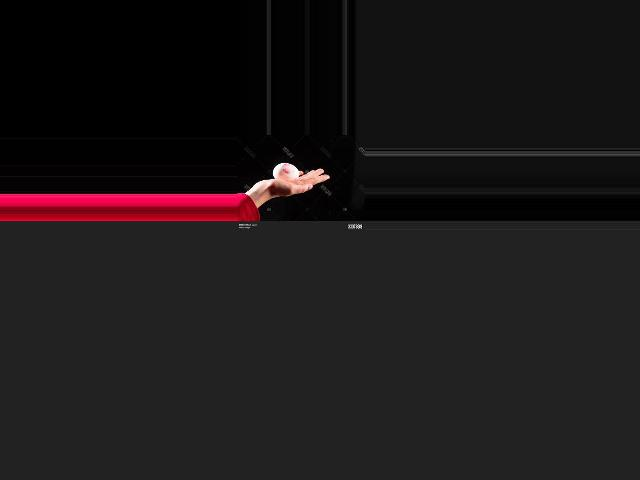egg: (272, 163, 298, 180)
